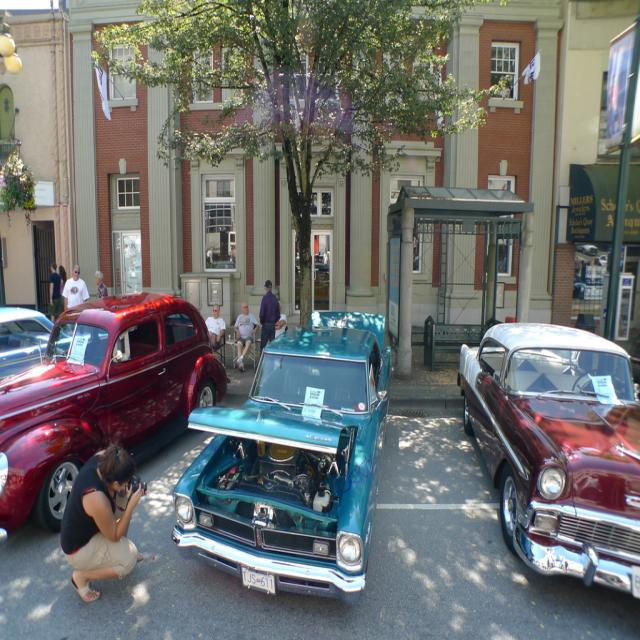car: (171, 312, 396, 602)
